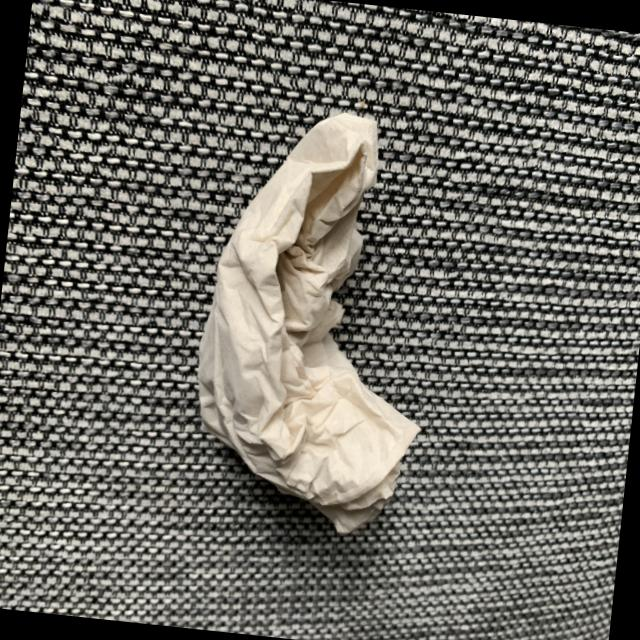organic waste: (180, 101, 452, 544)
